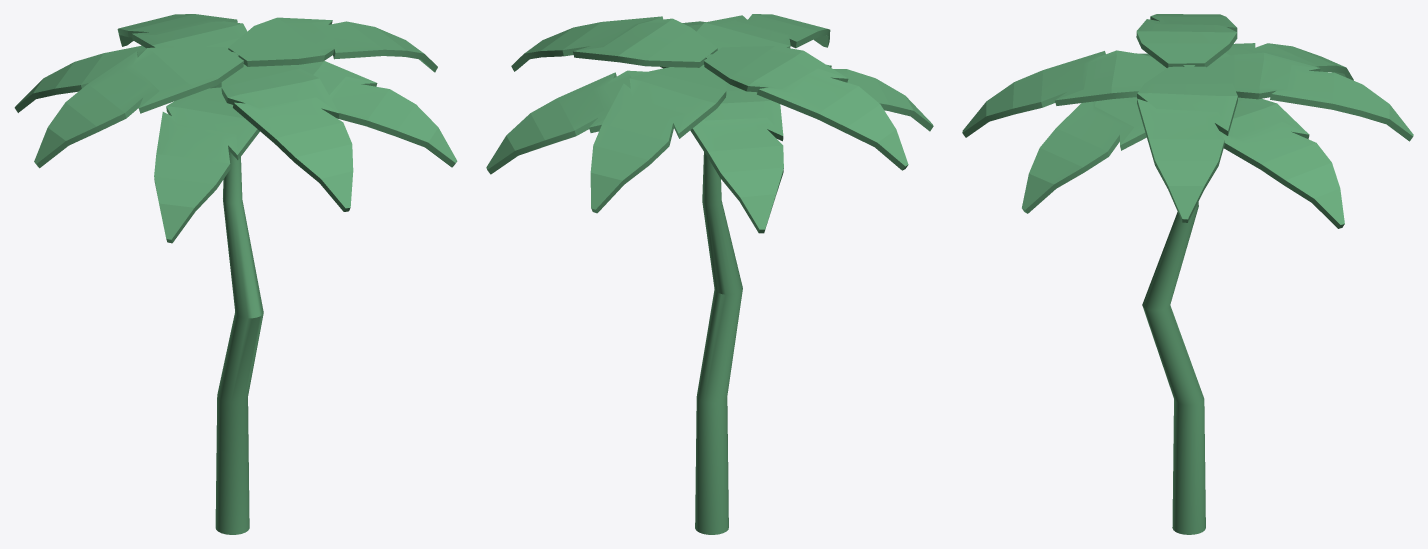
File: arbre_jungle_LP.fbx
3 renders of one model, left to right at view 1: azimuth 30°, elevation 25°; view 2: azimuth 150°, elevation 25°; view 3: azimuth 270°, elevation 25°, orthographic. The views are drawn at different scales.
Visible parts, largest first — view 1: arbre_jungle_LP; view 2: arbre_jungle_LP; view 3: arbre_jungle_LP.
Boxes of the visible parts, x1,y1,x2,y2 form: arbre_jungle_LP: (14,14,457,534); arbre_jungle_LP: (486,14,933,534); arbre_jungle_LP: (962,14,1413,534).
Bounding box in the file's own units: 900 × 1026 × 900.
